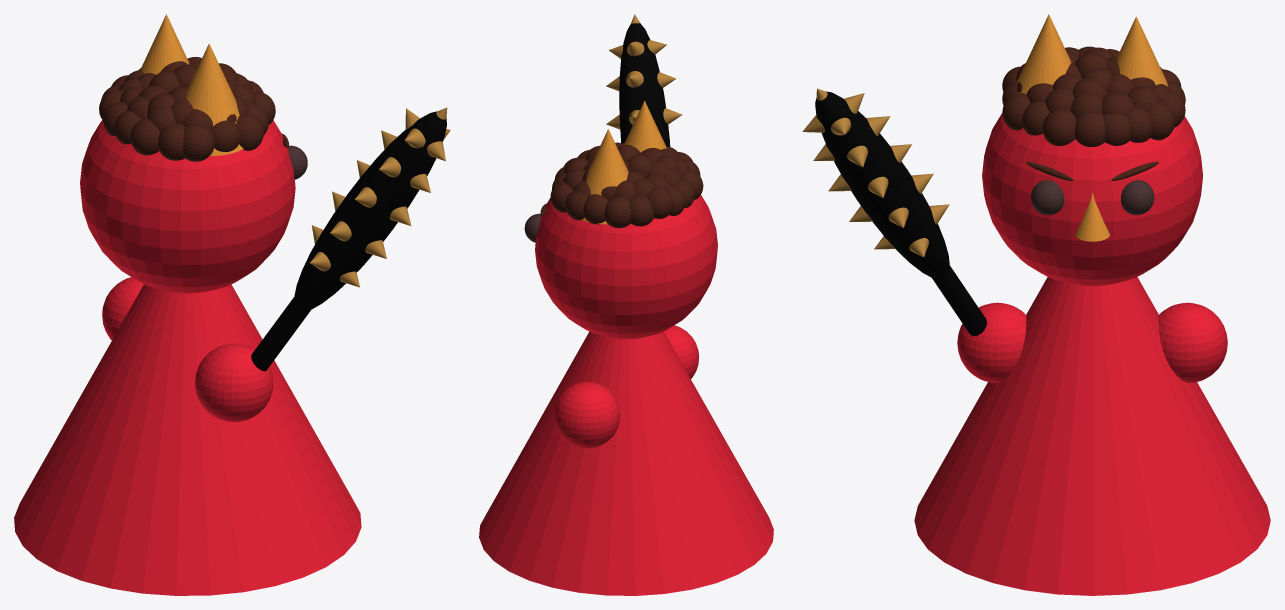
The model's file is oni.fbx.
The picture shows the model from 3 angles, left to right: view 1: azimuth 30°, elevation 25°; view 2: azimuth 150°, elevation 25°; view 3: azimuth 270°, elevation 25°; orthographic projection. The views are drawn at different scales.
Parts seen in each view (by area): view 1: body, hair, konbou, horn, tubutubu; view 2: body, hair, konbou, horn, tubutubu; view 3: body, hair, konbou, horn, tubutubu, eye, nose, mayu.
Part boxes in pixels (<box>): body: <box>14,120,361,595</box>; hair: <box>99,57,275,161</box>; konbou: <box>251,111,446,371</box>; horn: <box>140,14,243,155</box>; tubutubu: <box>310,107,450,287</box>; body: <box>479,195,773,595</box>; hair: <box>550,142,703,228</box>; konbou: <box>619,23,670,146</box>; horn: <box>582,100,666,224</box>; tubutubu: <box>606,14,682,129</box>; body: <box>914,113,1270,595</box>; hair: <box>1002,46,1185,146</box>; konbou: <box>815,91,986,335</box>; horn: <box>1017,14,1167,94</box>; tubutubu: <box>802,88,949,257</box>; eye: <box>1030,180,1154,215</box>; nose: <box>1075,192,1109,241</box>; mayu: <box>1026,161,1158,180</box>.
Bounding box in the file's own units: 200 × 314 × 263.
